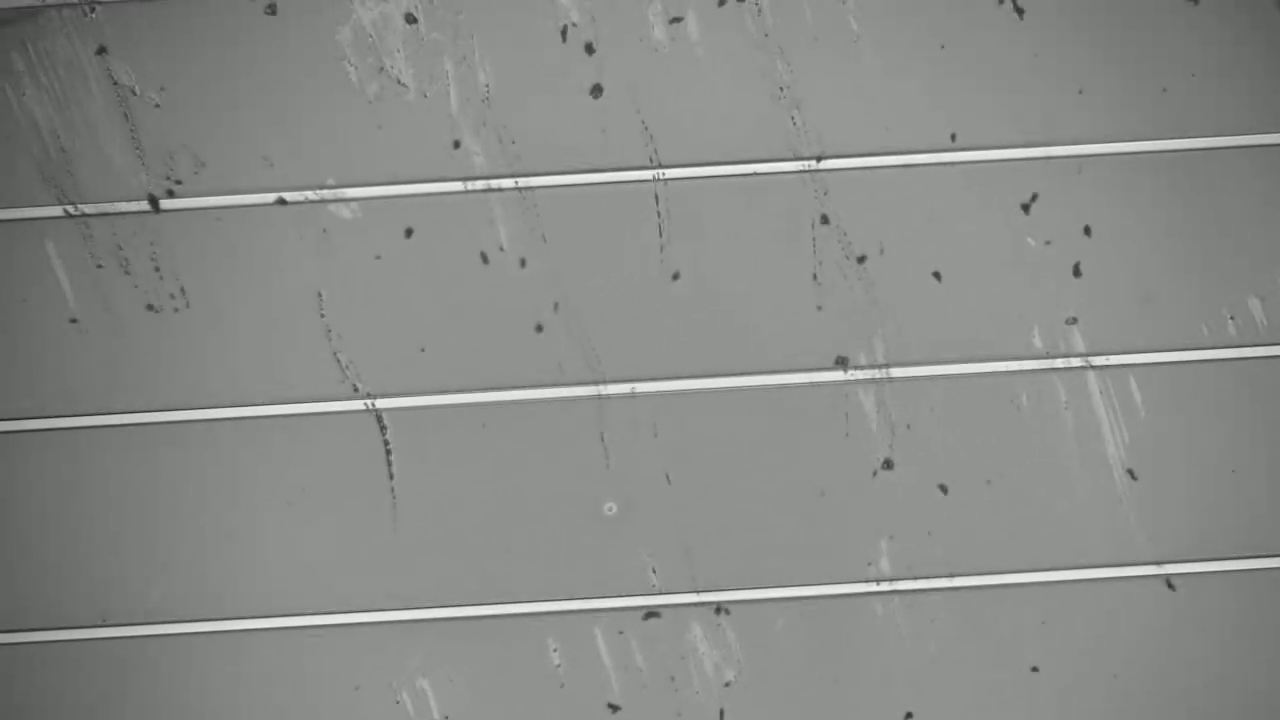scratch: (754, 47, 886, 379), (315, 281, 405, 517)
stains_enbedded: (138, 189, 171, 217), (268, 186, 295, 212)
